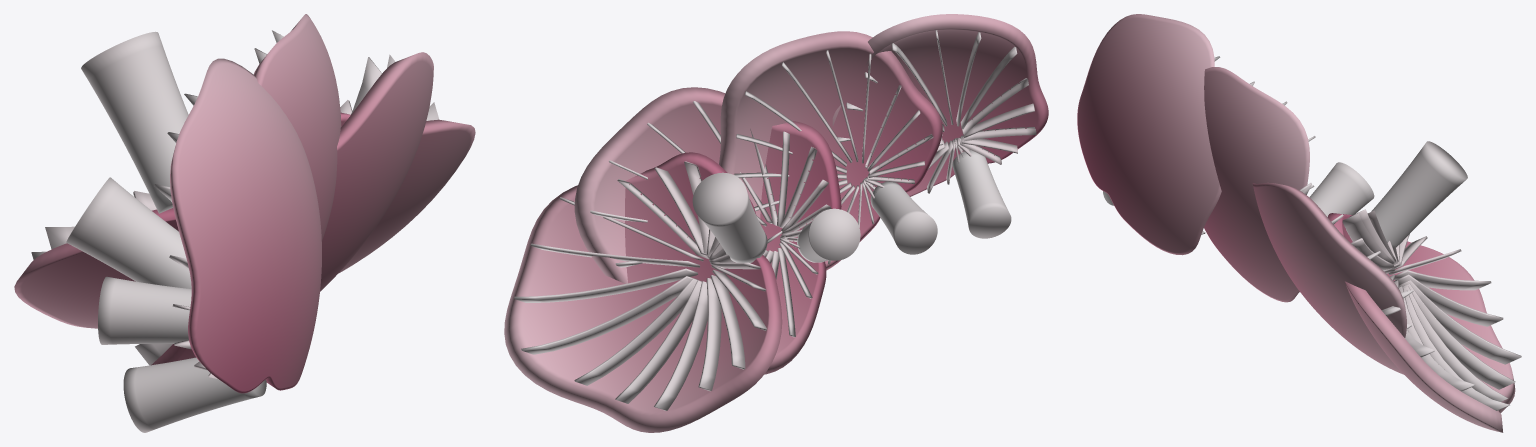
Rendered from pleurotus-djamor.glb.
3 views of the same model, side by side, from view 1: azimuth 30°, elevation 25°; view 2: azimuth 150°, elevation 25°; view 3: azimuth 270°, elevation 25° (orthographic). The views are drawn at different scales.
Parts seen in each view (by area): view 1: pileus_cap, stipe_stem, lamellae_gills; view 2: pileus_cap, lamellae_gills, stipe_stem; view 3: pileus_cap, lamellae_gills, stipe_stem.
Part boxes in pixels (box(x1,y1,x2,y2)): pileus_cap: box(14, 14, 475, 393); stipe_stem: box(66, 31, 266, 432); lamellae_gills: box(31, 30, 439, 379); pileus_cap: box(504, 14, 1048, 432); lamellae_gills: box(514, 30, 1036, 410); stipe_stem: box(692, 150, 1011, 263); pileus_cap: box(1077, 14, 1515, 432); lamellae_gills: box(1201, 56, 1521, 410); stipe_stem: box(1103, 141, 1467, 247).
Size of the model in its own units: 1.86 by 1.62 by 2.06.
